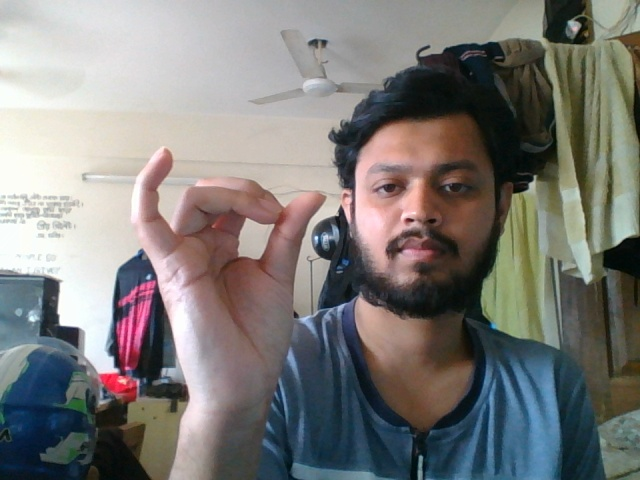oi: (125, 141, 333, 455)
